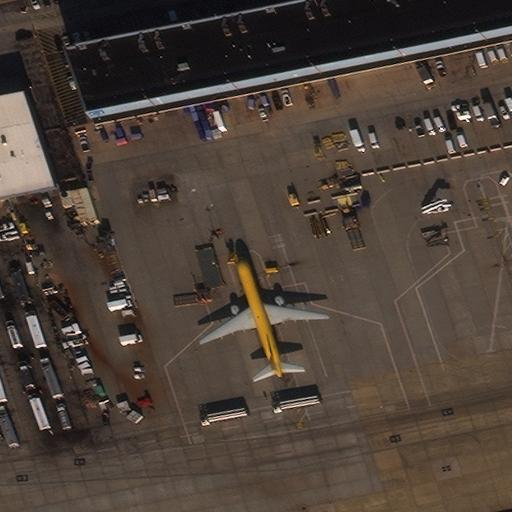Large Civil Transport: (200, 255, 326, 377)
